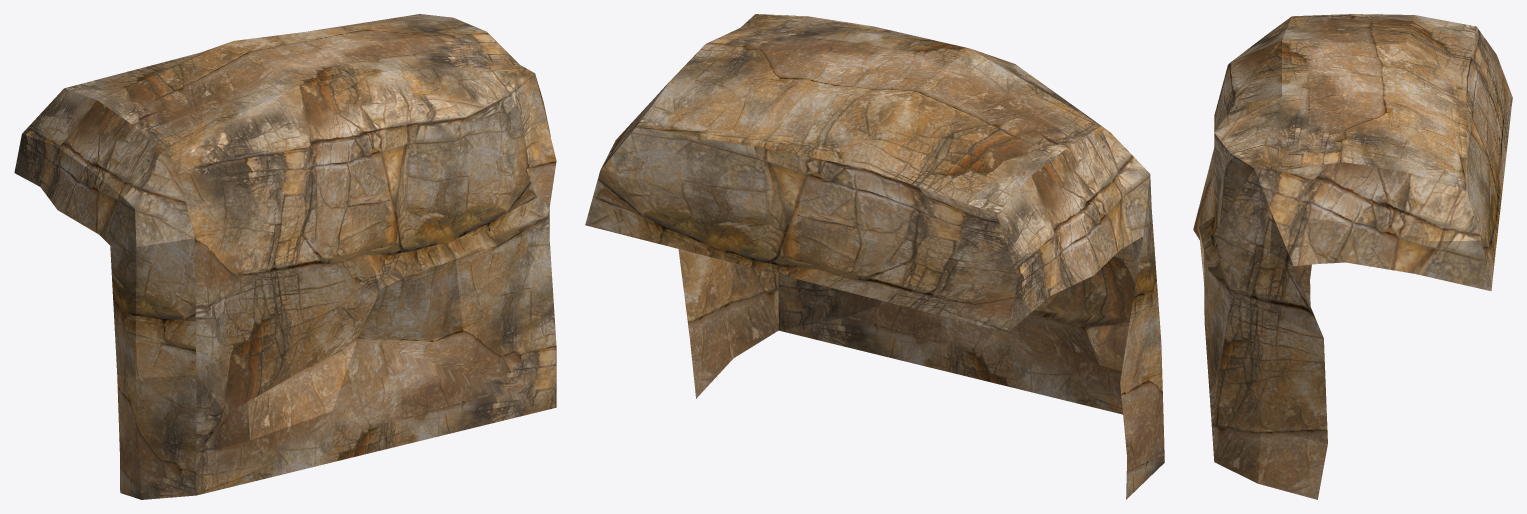
Rendered from Cliff.fbx.
3 renders of one model, left to right at view 1: azimuth 30°, elevation 25°; view 2: azimuth 150°, elevation 25°; view 3: azimuth 270°, elevation 25°, orthographic. The views are drawn at different scales.
Visible parts, largest first — view 1: Plane.245; view 2: Plane.245; view 3: Plane.245.
Part boxes in pixels (x1,y1,x2,y2): Plane.245: (14,14,556,499); Plane.245: (585,14,1164,499); Plane.245: (1193,14,1512,499).
Bounding box in the file's own units: 245 × 201 × 166.
